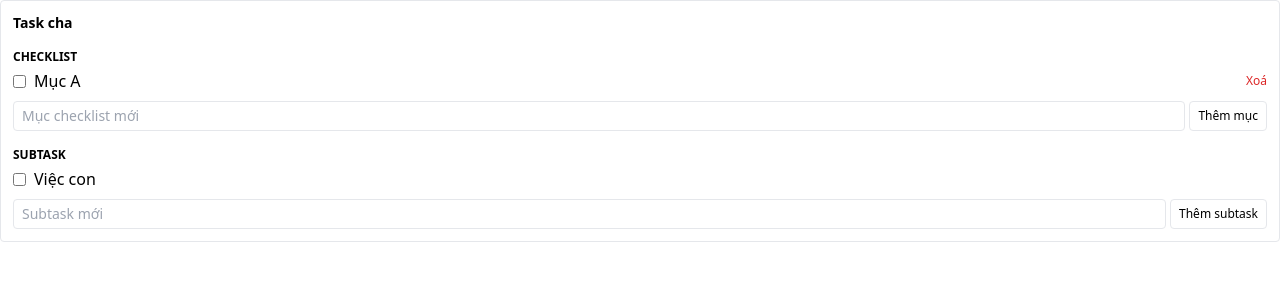
Test case: TaskDetailPanel › hiện lỗi khi action thất bại
Type "x" into the field labelled "Mục checklist mới" at [599, 116], box x1=13 y1=101 x2=1185 y2=131
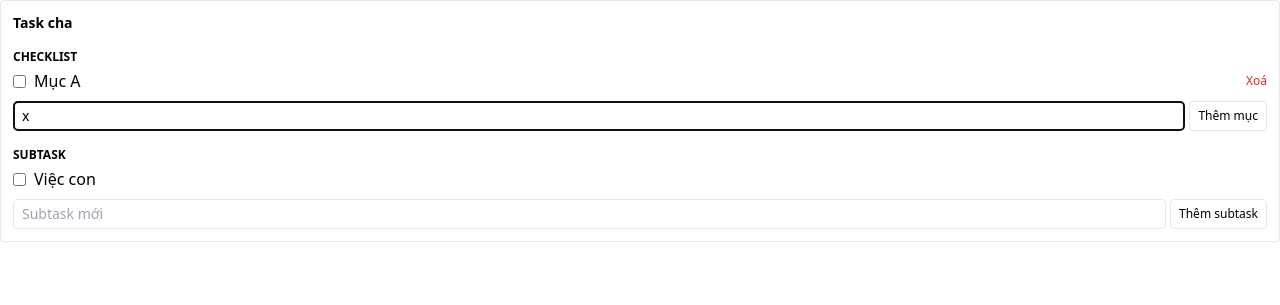
Click the button "Thêm mục" at [1228, 116], box x1=1189 y1=101 x2=1267 y2=131
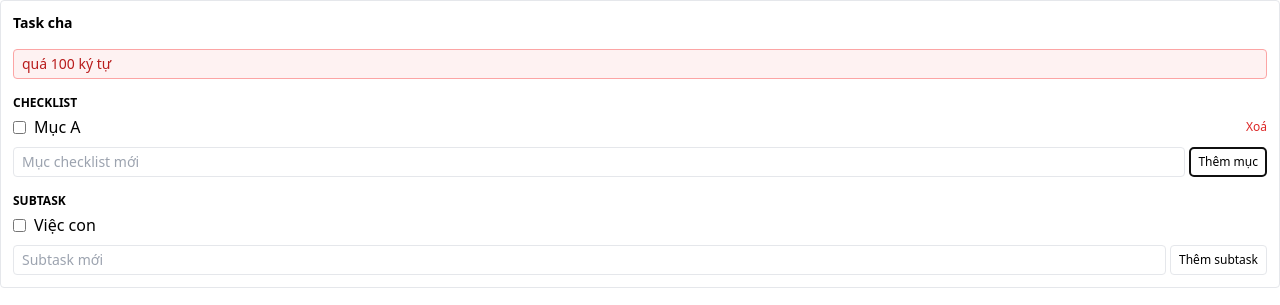
Check: the message reads "quá 100 ký tự", box x1=22 y1=54 x2=111 y2=73
